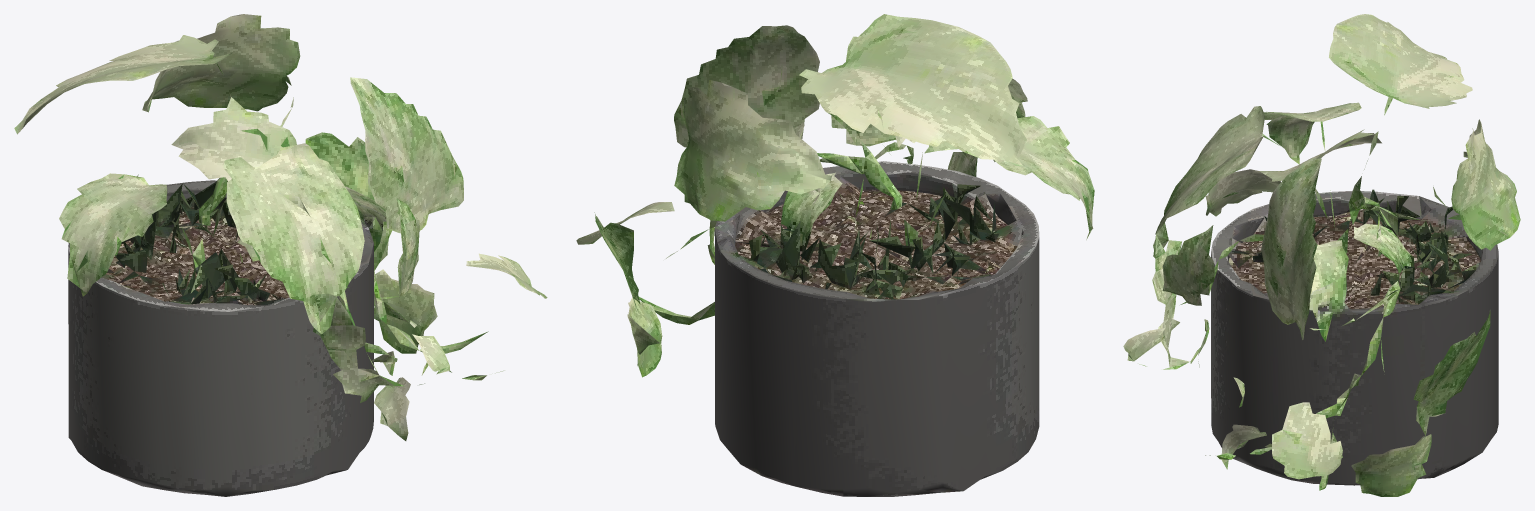
Rendered from g_pothos.glb.
3 views of the same model, side by side, from view 1: azimuth 30°, elevation 25°; view 2: azimuth 150°, elevation 25°; view 3: azimuth 270°, elevation 25° (orthographic). The views are drawn at different scales.
Parts seen in each view (by area): view 1: mesh; view 2: mesh; view 3: mesh.
Boxes of the visible parts, x1,y1,x2,y2 form: mesh: [14, 14, 547, 496]; mesh: [576, 14, 1094, 496]; mesh: [1123, 14, 1520, 496].
Bounding box in the file's own units: 1.08 × 0.855 × 0.8381.
1 material, 1 textured.
